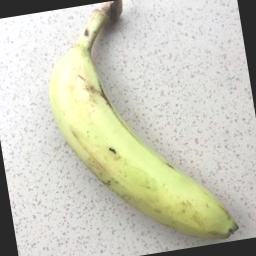Banana Ripe: (35, 17, 250, 256)
